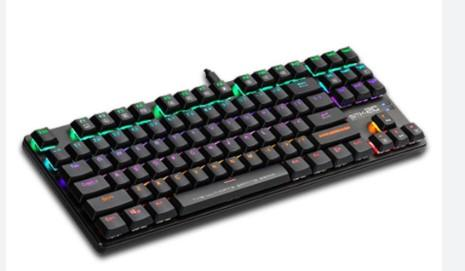Keyboard: (22, 47, 427, 255)
